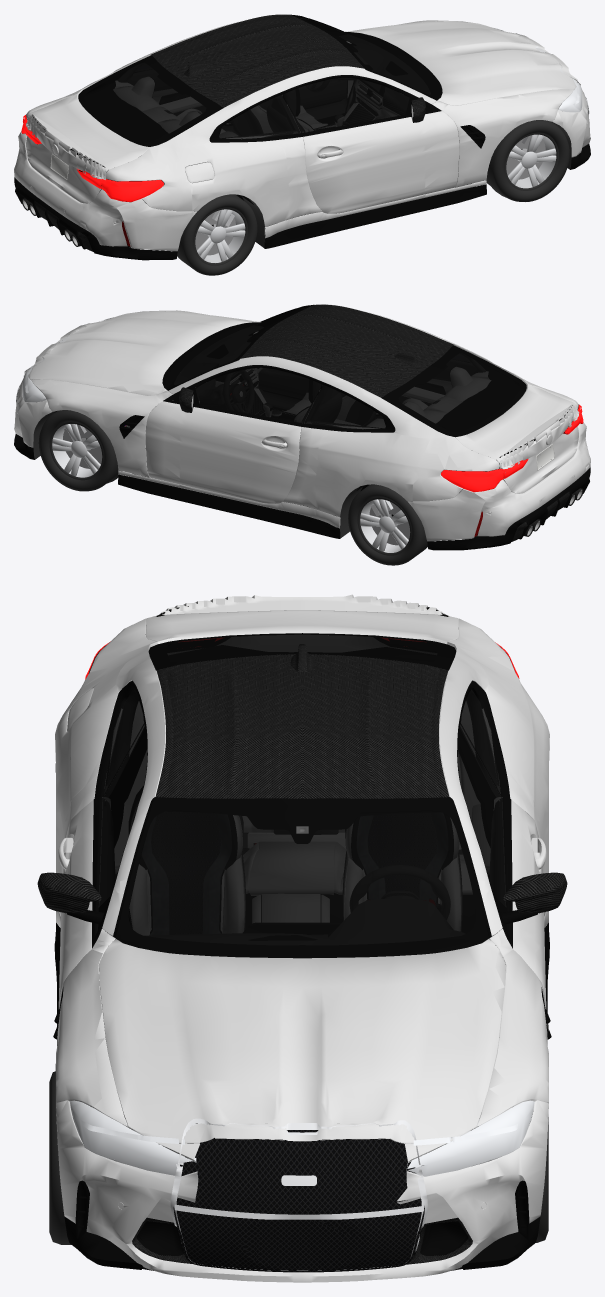
Rendered from bmv_m4.glb.
The picture shows the model from 3 angles, top to bottom: view 1: azimuth 30°, elevation 25°; view 2: azimuth 150°, elevation 25°; view 3: azimuth 270°, elevation 25°; orthographic projection. The views are drawn at different scales.
Parts seen in each view (by area): view 1: liner_trim, part_glass, core, part_door_fr, part_hood, part_trunk, part_quarter_rr, part_fender_fr, wheel_fr, wheel_rr, part_rear_bumper, part_roof (+3 smaller); view 2: liner_trim, part_glass, core, part_door_fl, part_hood, part_trunk, part_quarter_rl, part_fender_fl, wheel_fl, wheel_rl, part_rear_bumper, part_roof (+3 smaller); view 3: core, part_hood, liner_trim, part_glass, part_front_bumper, part_trunk, part_roof, part_fender_fl, part_fender_fr, part_quarter_rl, part_quarter_rr, headlight_l (+4 smaller).
Boxes of the visible parts, x1=… form: liner_trim: x1=14, y1=14, x2=590, y2=260; part_glass: x1=84, y1=18, x2=430, y2=142; core: x1=15, y1=14, x2=588, y2=251; part_door_fr: x1=280, y1=117, x2=425, y2=228; part_hood: x1=344, y1=21, x2=574, y2=110; part_trunk: x1=18, y1=85, x2=180, y2=219; part_quarter_rr: x1=59, y1=139, x2=289, y2=238; part_fender_fr: x1=420, y1=88, x2=574, y2=197; wheel_fr: x1=486, y1=120, x2=569, y2=201; wheel_rr: x1=177, y1=194, x2=257, y2=275; part_rear_bumper: x1=14, y1=150, x2=192, y2=251; part_roof: x1=84, y1=14, x2=416, y2=148; liner_trim: x1=14, y1=304, x2=590, y2=550; part_glass: x1=174, y1=308, x2=520, y2=432; core: x1=16, y1=304, x2=589, y2=541; part_door_fl: x1=179, y1=392, x2=324, y2=518; part_hood: x1=30, y1=311, x2=260, y2=394; part_trunk: x1=424, y1=375, x2=586, y2=509; part_quarter_rl: x1=315, y1=430, x2=502, y2=528; part_fender_fl: x1=30, y1=379, x2=192, y2=487; wheel_fl: x1=38, y1=410, x2=121, y2=491; wheel_rl: x1=348, y1=484, x2=429, y2=565; part_rear_bumper: x1=412, y1=440, x2=590, y2=541; part_roof: x1=188, y1=304, x2=520, y2=438; core: x1=37, y1=644, x2=567, y2=1272; part_hood: x1=92, y1=888, x2=505, y2=1142; liner_trim: x1=53, y1=605, x2=551, y2=1270; part_glass: x1=98, y1=634, x2=506, y2=945; part_front_bumper: x1=56, y1=1100, x2=548, y2=1282; part_trunk: x1=85, y1=594, x2=514, y2=685; part_roof: x1=114, y1=648, x2=490, y2=894; part_fender_fl: x1=469, y1=923, x2=548, y2=1131; part_fender_fr: x1=56, y1=923, x2=136, y2=1131; part_quarter_rl: x1=358, y1=596, x2=549, y2=927; part_quarter_rr: x1=55, y1=596, x2=245, y2=927; headlight_l: x1=407, y1=1100, x2=534, y2=1176.
Bounding box in the file's own units: 4.79 × 1.42 × 2.11.
52 materials, 15 textured.
